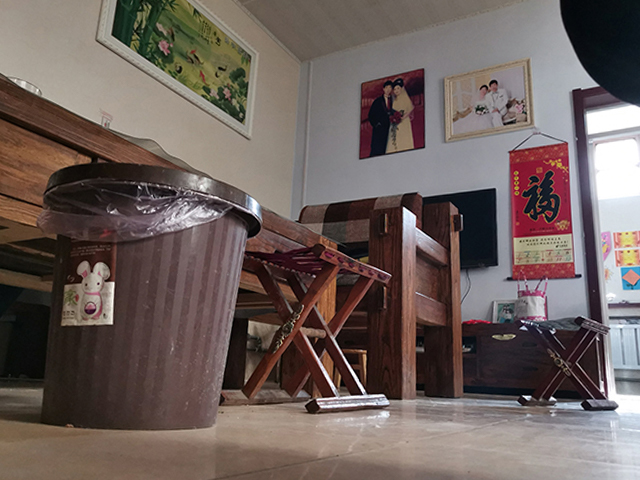cabinet: (461, 319, 619, 402)
stool: (293, 191, 466, 400), (217, 240, 393, 415), (514, 315, 620, 412)
trashcan: (37, 159, 264, 432)
